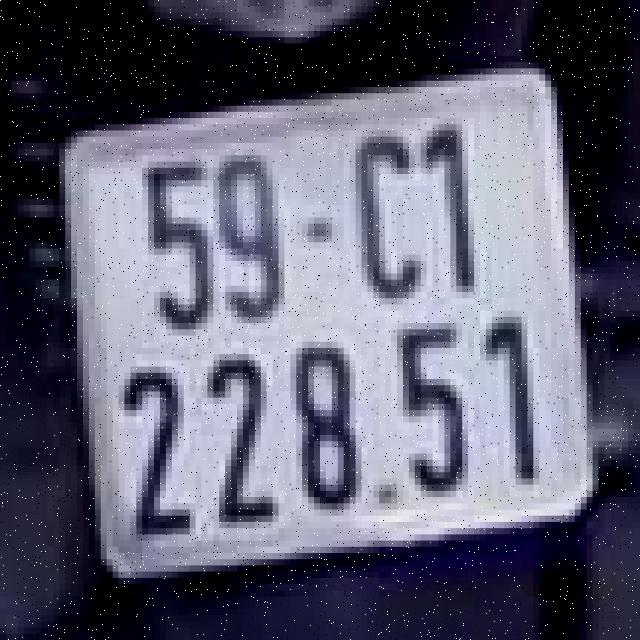1: (480, 308, 557, 494), (427, 112, 492, 311)
2: (118, 357, 202, 544), (202, 348, 272, 541)
5: (394, 320, 477, 506), (134, 162, 216, 336)
8: (284, 338, 374, 512)
9: (214, 146, 296, 326)
C: (346, 124, 424, 298)
